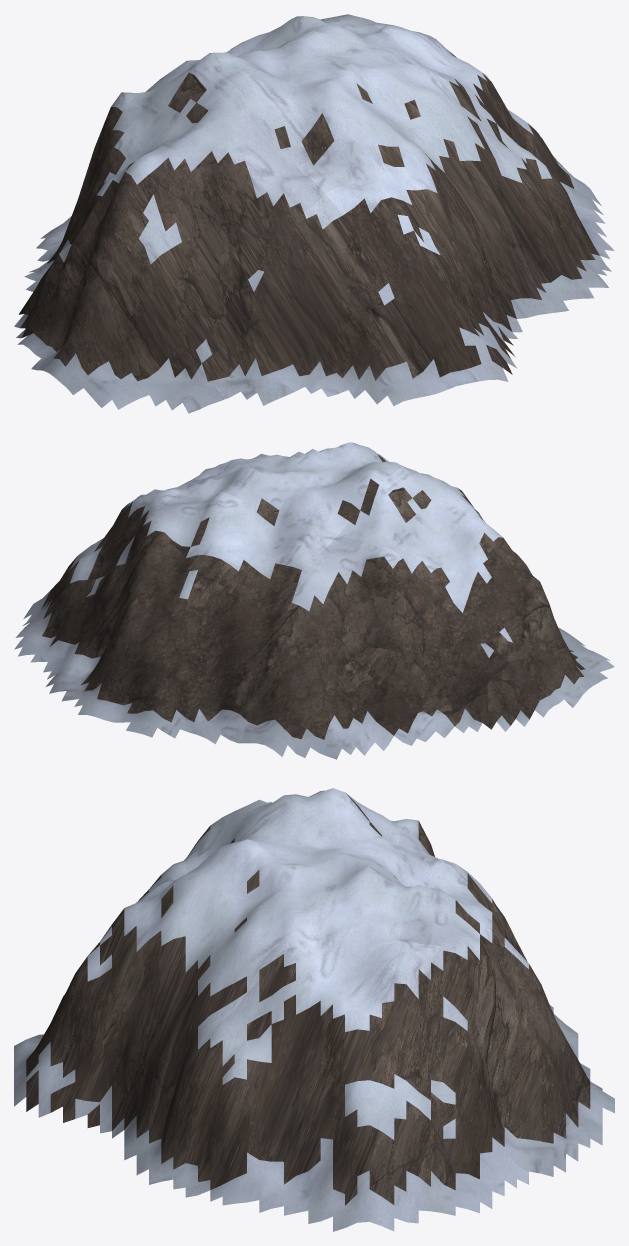
Rendered from border_shelf_a_v5_winter.glb.
The picture shows the model from 3 angles, top to bottom: view 1: azimuth 30°, elevation 25°; view 2: azimuth 150°, elevation 25°; view 3: azimuth 270°, elevation 25°; orthographic projection. The views are drawn at different scales.
Visible parts, largest first — view 1: border_shelf_a; view 2: border_shelf_a; view 3: border_shelf_a.
Part boxes in pixels (left/top/right/bottom): border_shelf_a: left=14, top=14, right=614, bottom=413; border_shelf_a: left=14, top=442, right=614, bottom=759; border_shelf_a: left=14, top=788, right=614, bottom=1231.
Size of the model in its own units: 1.04 by 0.4124 by 0.8909.
2 materials, 2 textured.
